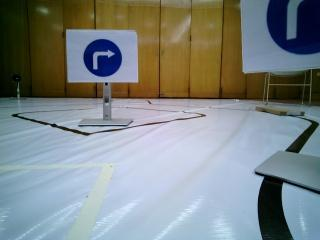right: (66, 28, 133, 78)
